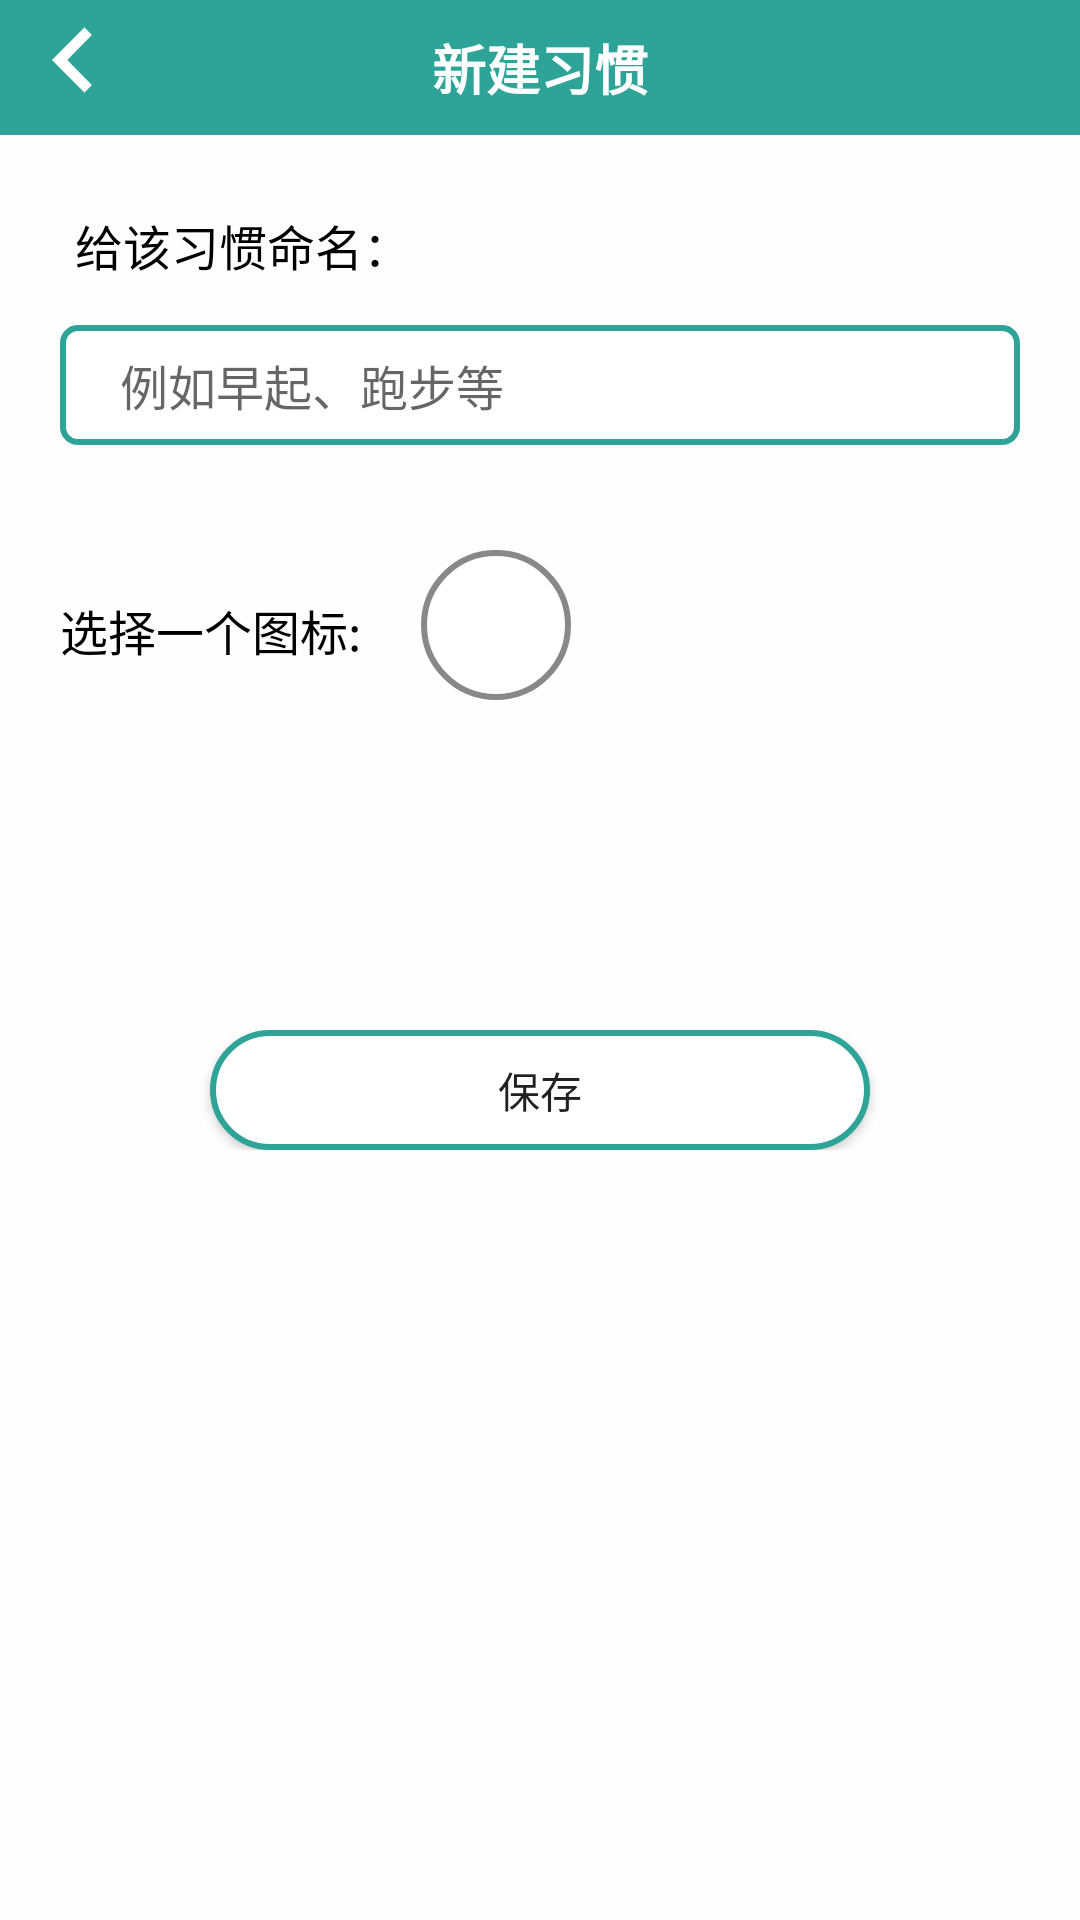

Icon click points for this 1080x1920 phone screenshot, format [x,y]:
back: [72,60]
